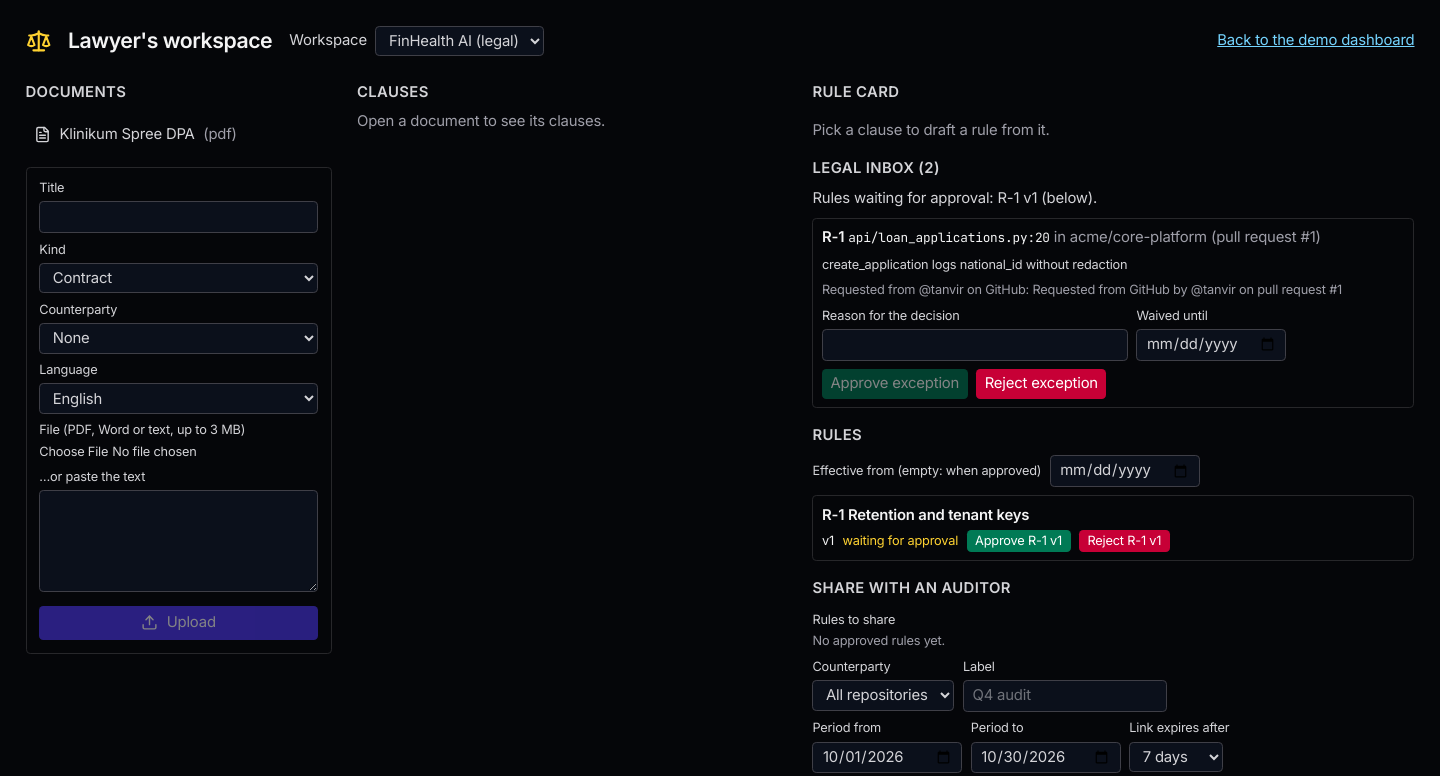
Test: lawyer's workspace › approves an exception from the inbox with a reason and an end date
Expected: the text "@tanvir on GitHub" is shown, [919, 282, 1026, 297]
Expected: the button "Approve exception" is disabled, [822, 369, 968, 399]
Type "Endpoint does not store PII; storage is added in LN-12" into the field labelled "Reason for the decision".
click(975, 345); type("Endpoint does not store PII; storage is added in LN-12")  # box [822, 329, 1128, 361]
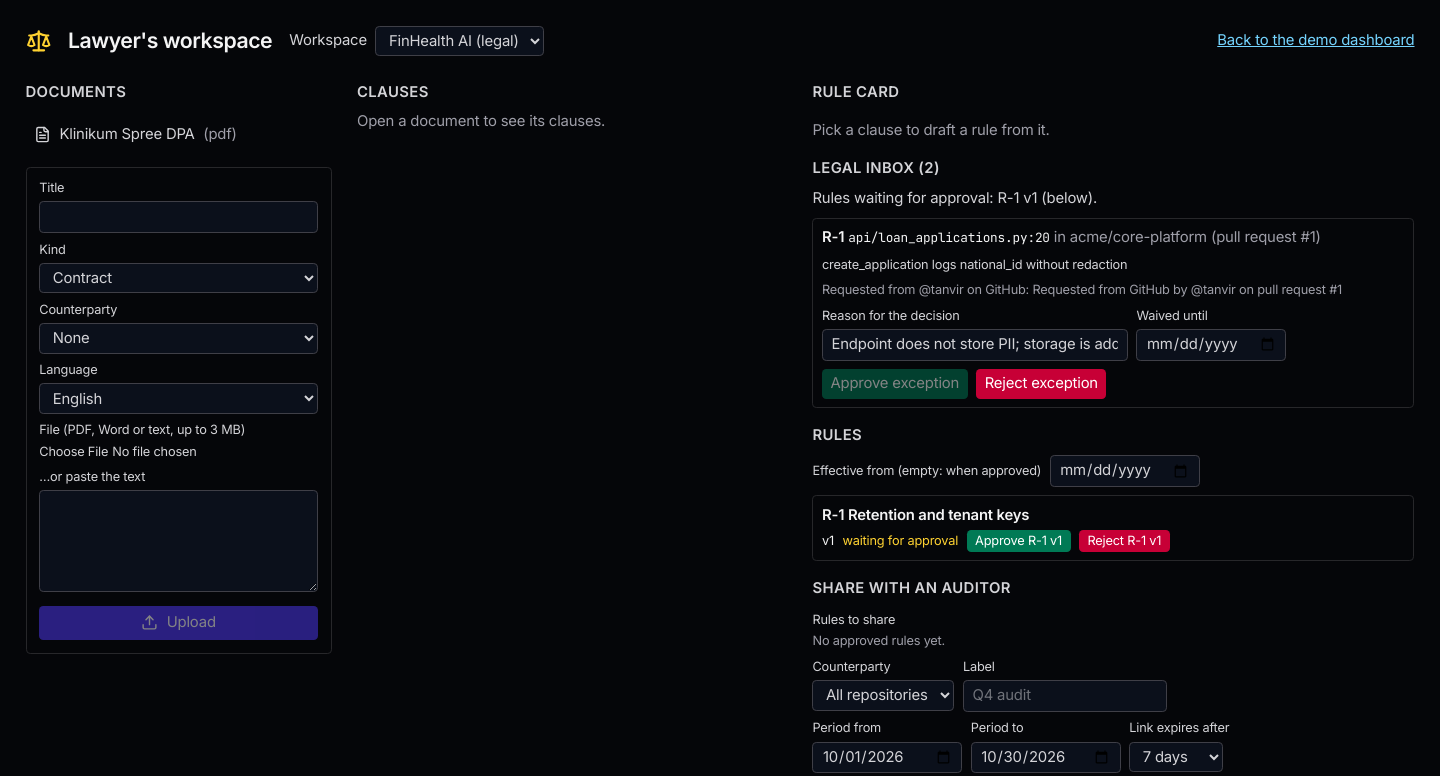
Type "2026-11-30" into the date field labelled "Waived until".
click(1211, 345); type("2026-11-30")  # box [1136, 329, 1286, 361]
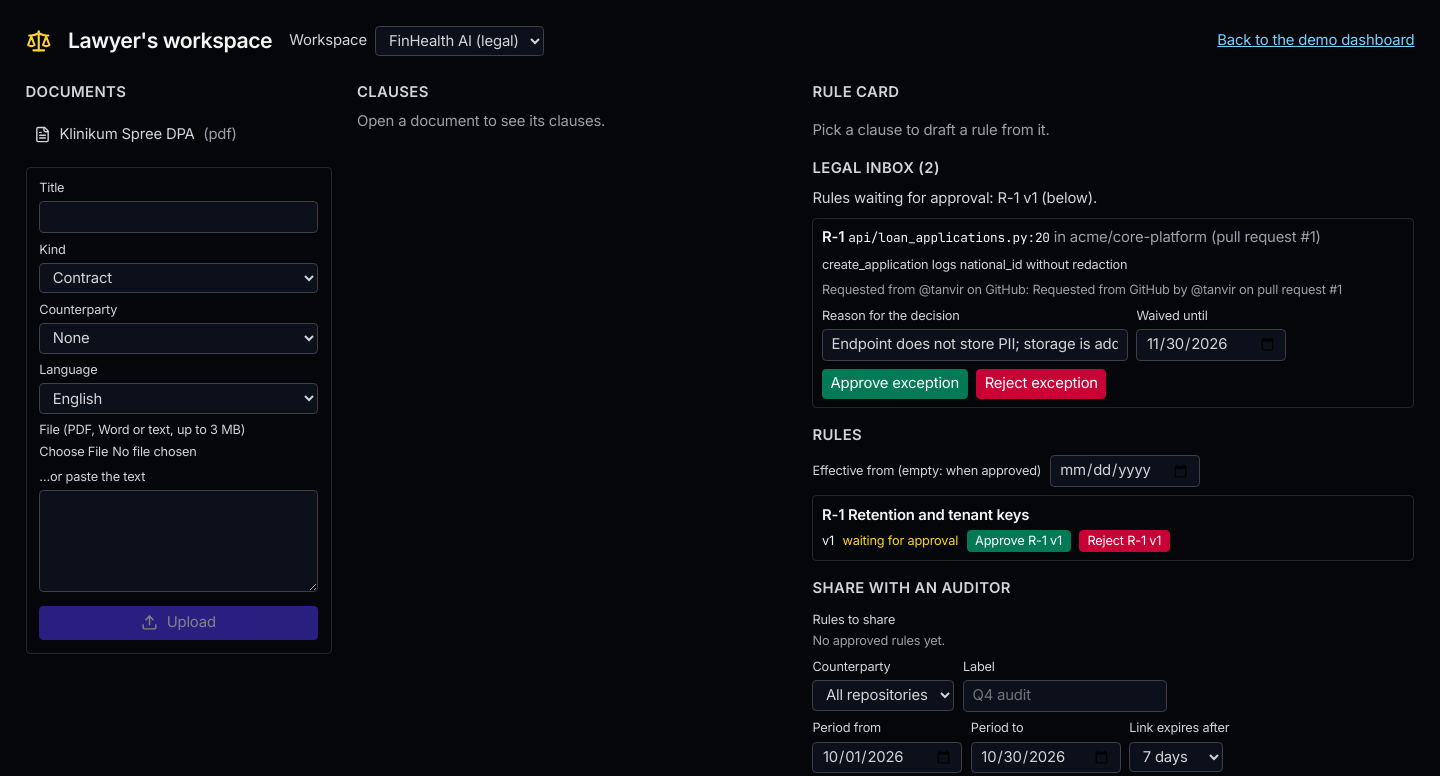
Now the button "Approve exception" is enabled
Click the button "Approve exception".
click(895, 384)  # box [822, 369, 968, 399]
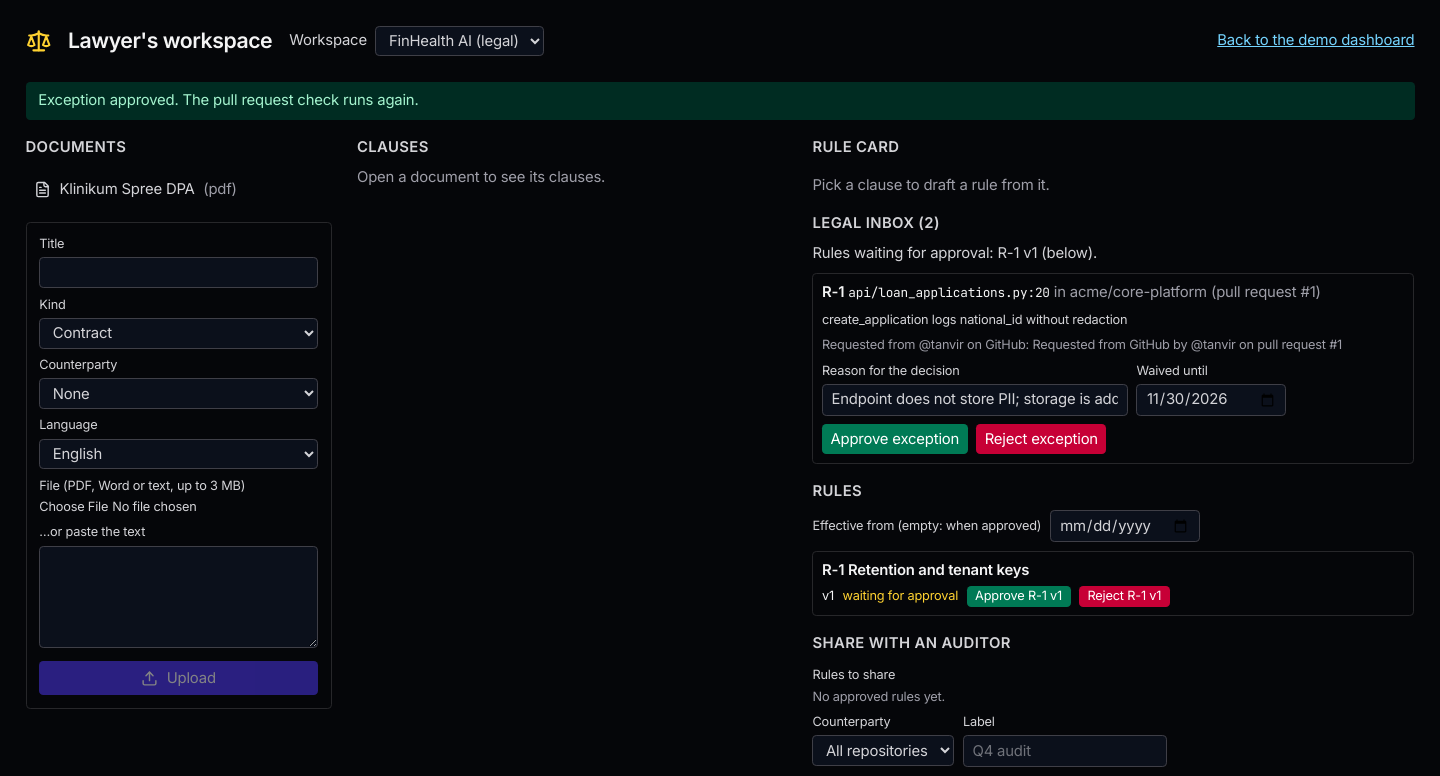
Now the text "Exception approved. The pull request check runs again." is shown, box [26, 82, 1414, 120]
